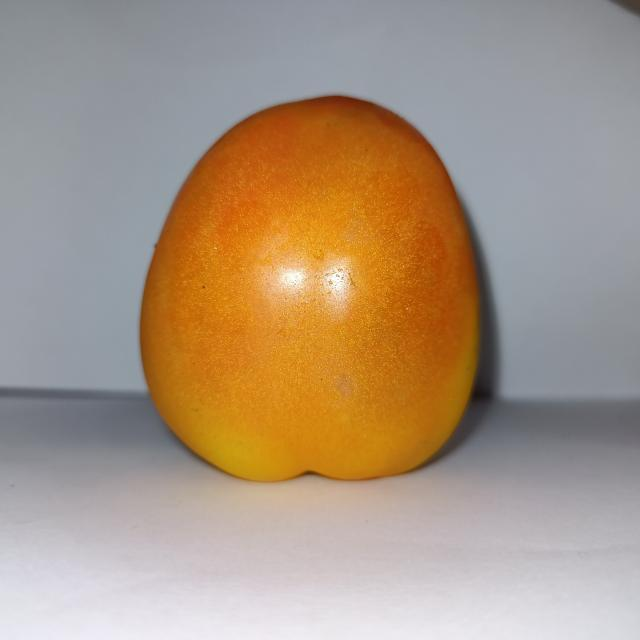Red: (137, 93, 483, 483)
